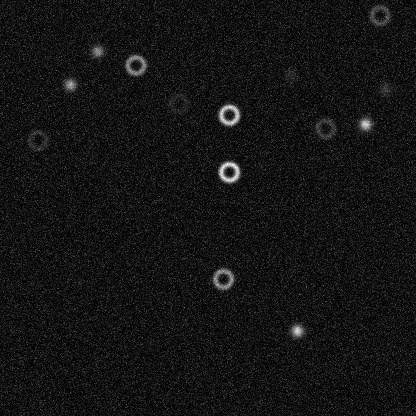Ring: (123, 53, 147, 77), (313, 116, 337, 140), (25, 127, 49, 151), (217, 159, 241, 183), (166, 91, 190, 115), (367, 3, 391, 27), (216, 102, 240, 126), (211, 266, 235, 290)
Spot: (357, 116, 373, 132), (89, 43, 105, 59), (376, 81, 392, 97), (62, 76, 78, 92), (282, 67, 298, 83), (288, 322, 304, 338)
